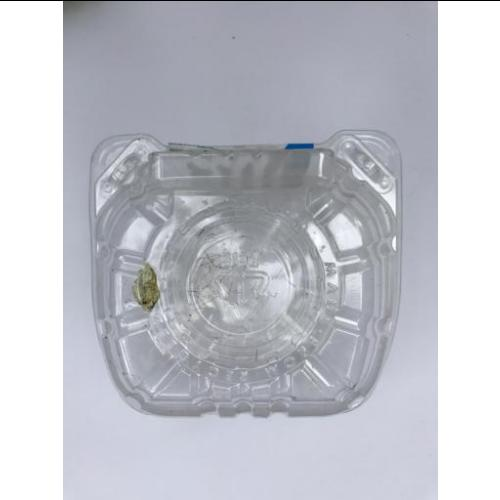plastic: (89, 139, 401, 413)
